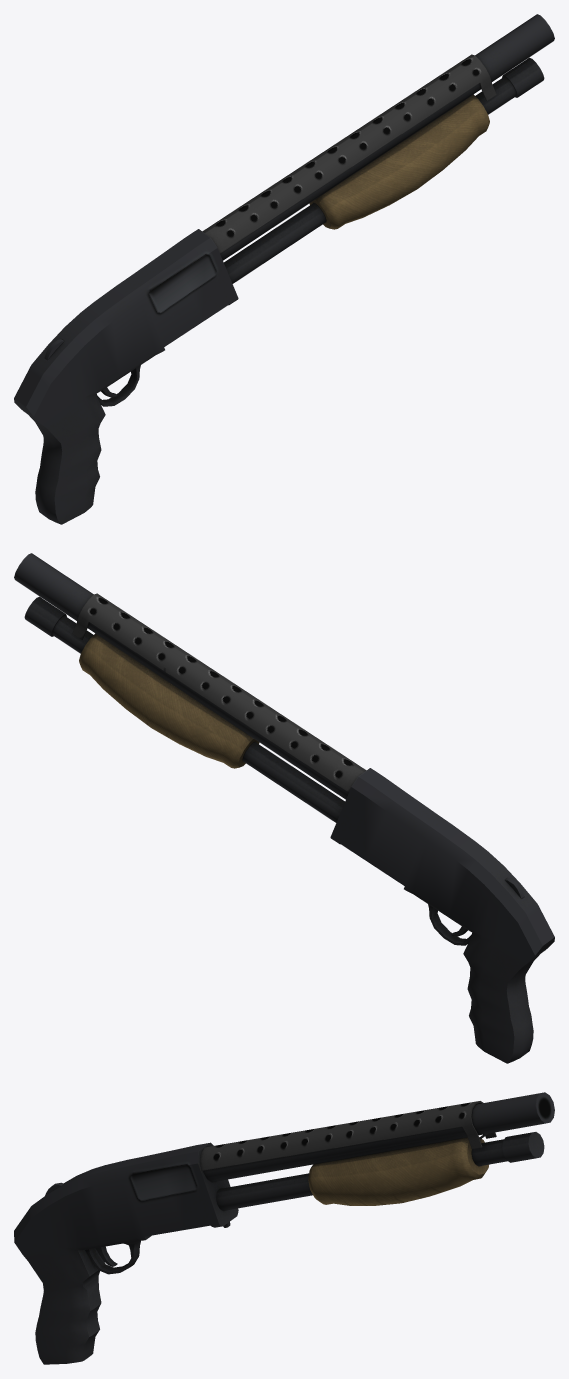
Rendered from shotgun_000007.obj.
3 views of the same model, one above another, from view 1: azimuth 30°, elevation 25°; view 2: azimuth 150°, elevation 25°; view 3: azimuth 330°, elevation 25° (orthographic).
Parts seen in each view (by area): view 1: mesh_Cube.001; view 2: mesh_Cube.001; view 3: mesh_Cube.001.
Boxes of the visible parts, x1,y1,x2,y2 form: mesh_Cube.001: (14,14,554,524); mesh_Cube.001: (14,553,554,1063); mesh_Cube.001: (14,1092,554,1364).
Bounding box in the file's own units: 1.68 × 1.17 × 0.1708.
Materials: 1 (1 with a texture image).
